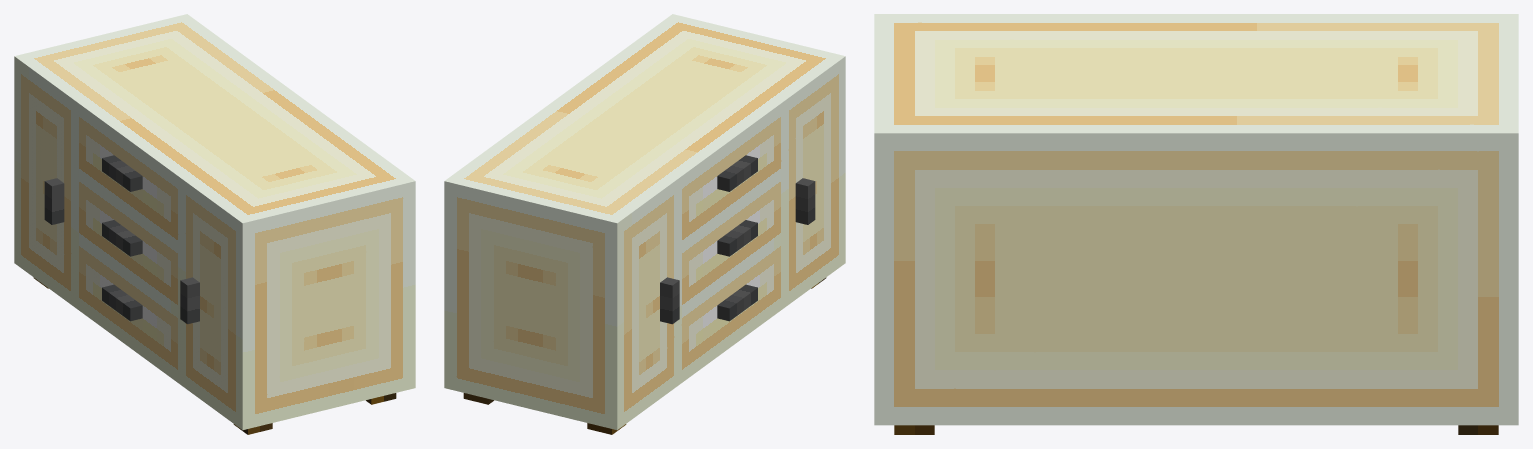
Rendered from drawer.gltf.
The picture shows the model from 3 angles, left to right: view 1: azimuth 30°, elevation 25°; view 2: azimuth 150°, elevation 25°; view 3: azimuth 270°, elevation 25°; orthographic projection. The views are drawn at different scales.
Visible parts, largest first — view 1: cube (×6); view 2: cube (×6); view 3: cube.
Boxes of the visible parts, x1,y1,x2,y2 form: cube (×6): (14, 14, 415, 430); cube (×6): (444, 14, 845, 430); cube: (874, 14, 1518, 425).
Bounding box in the file's own units: 0.9375 × 1.06 × 2.
1 material, 1 textured.
